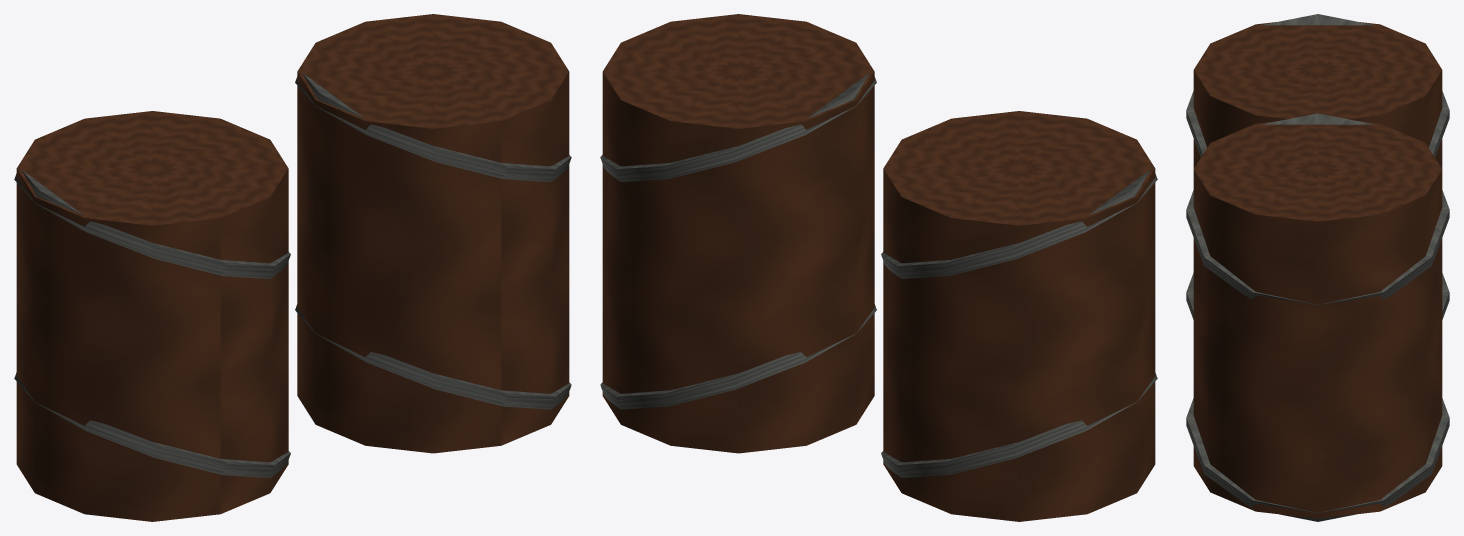
Rendered from barrels_v5.obj.
3 views of the same model, side by side, from view 1: azimuth 30°, elevation 25°; view 2: azimuth 150°, elevation 25°; view 3: azimuth 270°, elevation 25° (orthographic). The views are drawn at different scales.
Parts seen in each view (by area): view 1: barrels_v5; view 2: barrels_v5; view 3: barrels_v5.
Boxes of the visible parts, x1,y1,x2,y2 form: barrels_v5: (14, 14, 571, 521); barrels_v5: (600, 14, 1157, 521); barrels_v5: (1186, 14, 1449, 521).
Bounding box in the file's own units: 2.28 × 1.42 × 1.1.
Materials: 2 (2 with a texture image).
